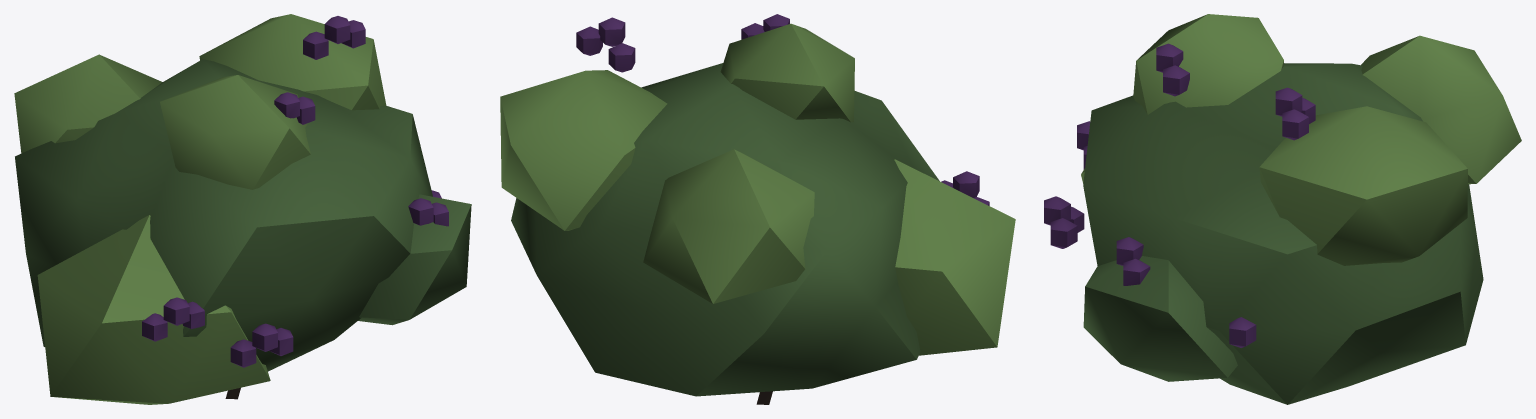
Rendered from bush_bogberry.glb.
3 renders of one model, left to right at view 1: azimuth 30°, elevation 25°; view 2: azimuth 150°, elevation 25°; view 3: azimuth 270°, elevation 25°, orthographic. The views are drawn at different scales.
Parts seen in each view (by area): view 1: bush_bogberry, count_1, count_3, count_2; view 2: bush_bogberry, count_3, count_1; view 3: bush_bogberry, count_3, count_1, count_2.
Boxes of the visible parts, box(x1,y1,x2,y2) form: bush_bogberry: box(14, 14, 471, 404); count_1: box(142, 297, 293, 367); count_3: box(274, 16, 365, 124); count_2: box(408, 190, 448, 226); bush_bogberry: box(500, 23, 1015, 404); count_3: box(576, 14, 789, 72); count_1: box(941, 171, 989, 205); bush_bogberry: box(1081, 14, 1521, 404); count_3: box(1156, 43, 1315, 140); count_1: box(1044, 121, 1090, 248); count_2: box(1116, 237, 1256, 347).
Bounding box in the file's own units: 0.7855 × 0.6074 × 0.7225.
